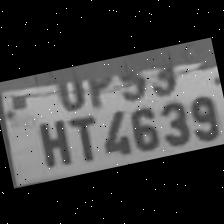3: (150, 92, 191, 149), (140, 46, 182, 94)
4: (92, 102, 134, 160)
5: (106, 54, 148, 102)
6: (122, 98, 161, 154)
9: (180, 86, 224, 144)
H: (28, 111, 74, 170)
P: (78, 59, 117, 108)
T: (62, 107, 103, 164)
U: (48, 64, 88, 111)
